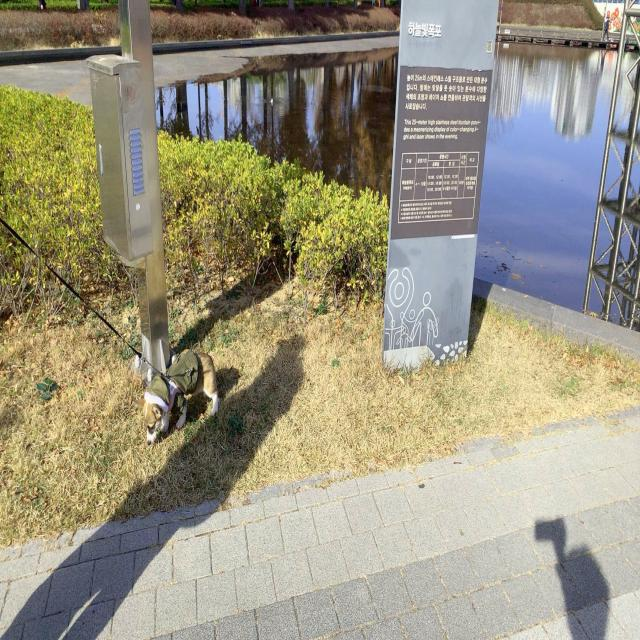Dog: (134, 350, 219, 446)
